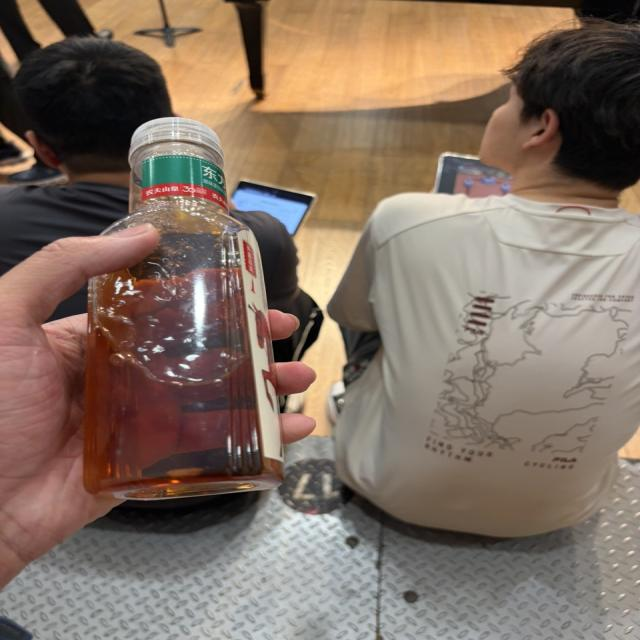medium: (85, 118, 283, 500)
